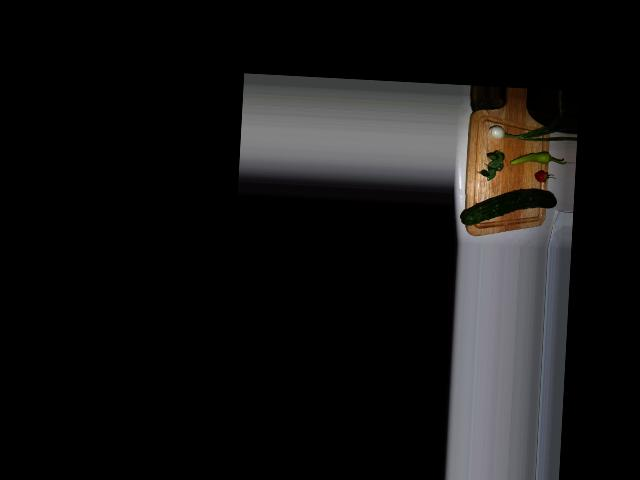cucumber: (460, 185, 556, 230)
